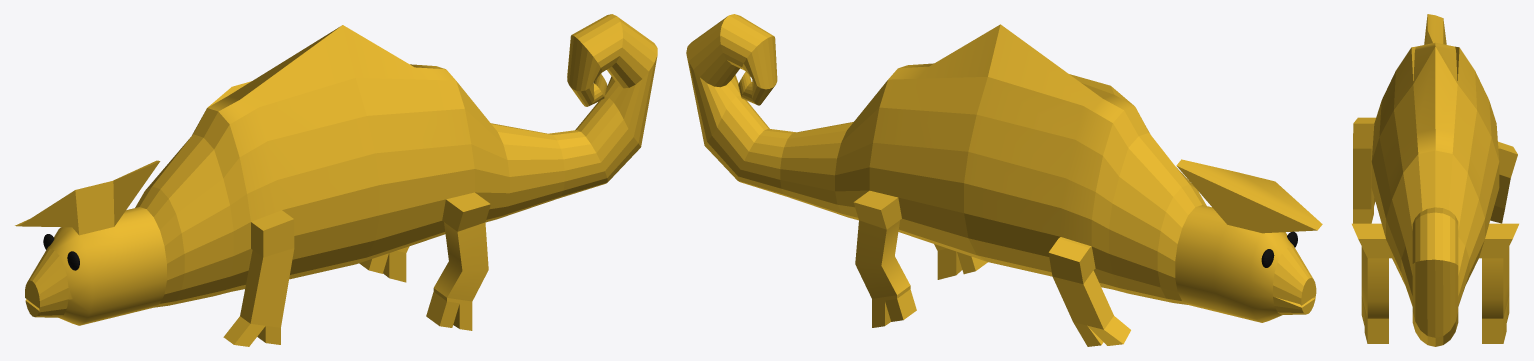
Rendered from camel.fbx.
3 renders of one model, left to right at view 1: azimuth 30°, elevation 25°; view 2: azimuth 150°, elevation 25°; view 3: azimuth 270°, elevation 25°, orthographic. The views are drawn at different scales.
Visible parts, largest first — view 1: pCylinder16; view 2: pCylinder16; view 3: pCylinder16.
Part boxes in pixels (x1,y1,x2,y2): pCylinder16: [15, 14, 657, 346]; pCylinder16: [686, 14, 1322, 346]; pCylinder16: [1352, 14, 1518, 346].
Bounding box in the file's own units: 13.83 × 6.22 × 3.66.
